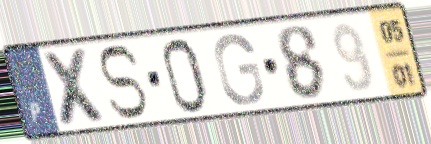0: (159, 36, 211, 116)
8: (275, 23, 330, 102)
9: (331, 20, 376, 95)
G: (211, 31, 266, 107)
S: (96, 42, 151, 122)
X: (39, 46, 113, 129)
